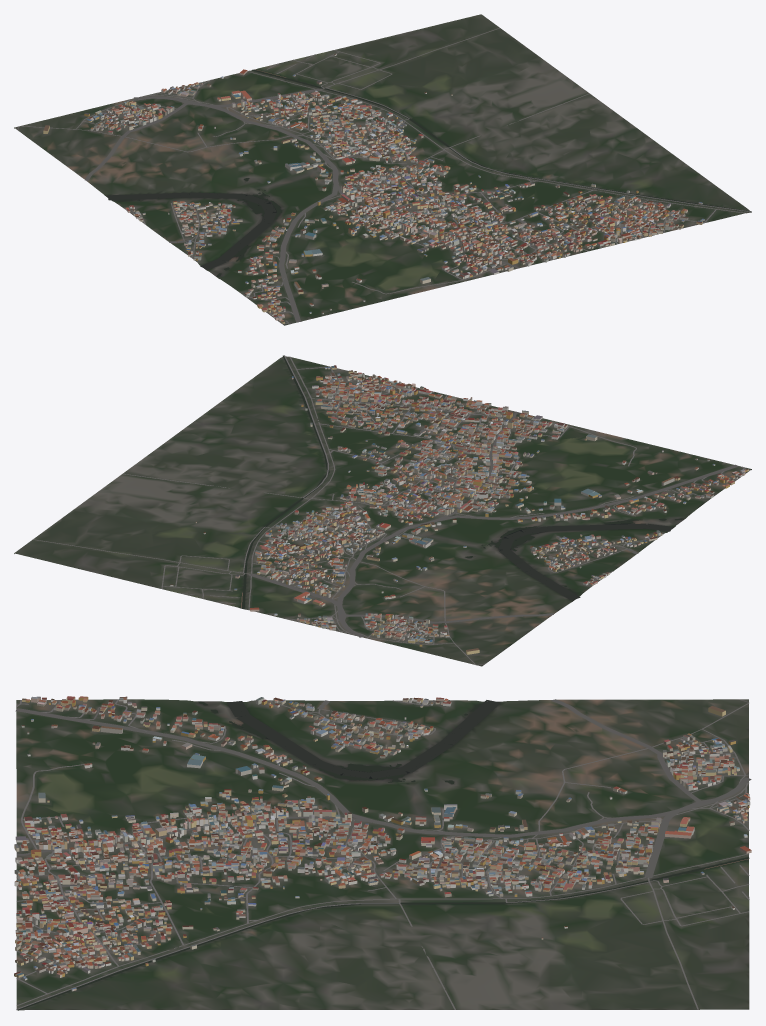
3 views of the same model, one above another, from view 1: azimuth 30°, elevation 25°; view 2: azimuth 150°, elevation 25°; view 3: azimuth 270°, elevation 25° (orthographic). The views are drawn at different scales.
Parts seen in each view (by area): view 1: ground, buildings, roads, water; view 2: ground, buildings, roads, water; view 3: ground, buildings, roads, water.
Boxes of the visible parts, x1,y1,x2,y2 form: ground: [14, 14, 751, 325]; buildings: [43, 53, 704, 323]; roads: [17, 28, 750, 324]; water: [107, 69, 751, 277]; ground: [14, 356, 751, 666]; buildings: [170, 365, 748, 654]; roads: [33, 355, 749, 665]; water: [242, 355, 684, 608]; ground: [16, 699, 749, 1010]; buildings: [14, 696, 751, 991]; roads: [15, 699, 751, 1009]; water: [16, 700, 749, 1010].
Size of the model in its own units: 1411 by 23.41 by 1412.
